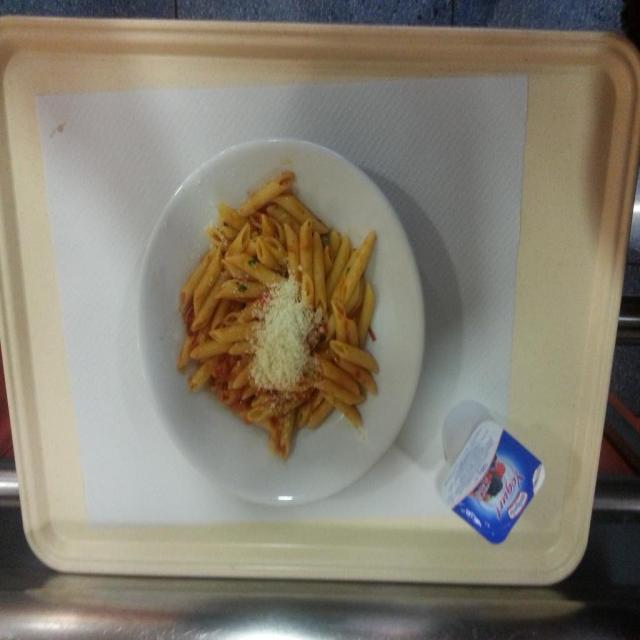plate: (136, 136, 425, 509)
